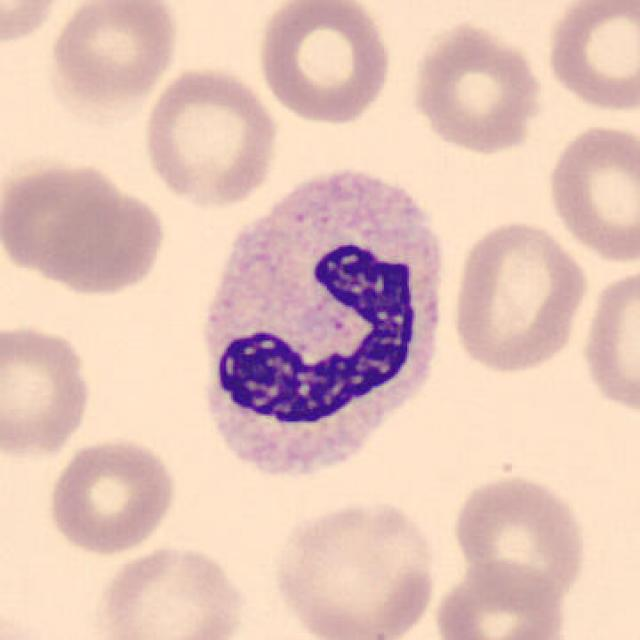Neutrophil: (186, 153, 458, 499)
RBC: (268, 495, 441, 640), (446, 215, 592, 377), (2, 157, 169, 298), (139, 62, 281, 212), (406, 18, 548, 158), (448, 469, 590, 608), (253, 0, 397, 129), (42, 432, 180, 559), (91, 541, 249, 640), (45, 0, 183, 111), (542, 118, 640, 266), (0, 319, 96, 462), (430, 557, 571, 640), (542, 0, 640, 116), (578, 262, 640, 420), (0, 0, 69, 47)
